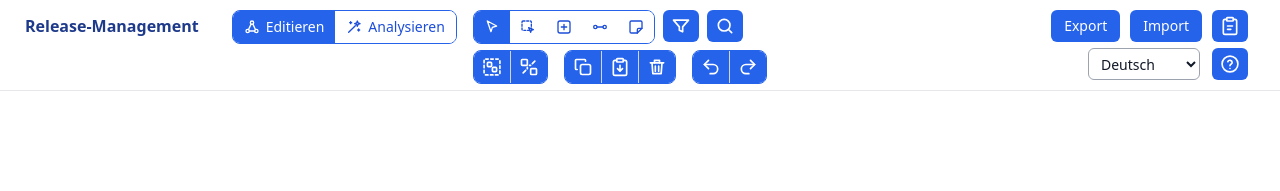
it: Toolbar › names the shortcuts of copy and paste
Hover over the button named "Kopieren": (583, 67) [565,51,601,83]
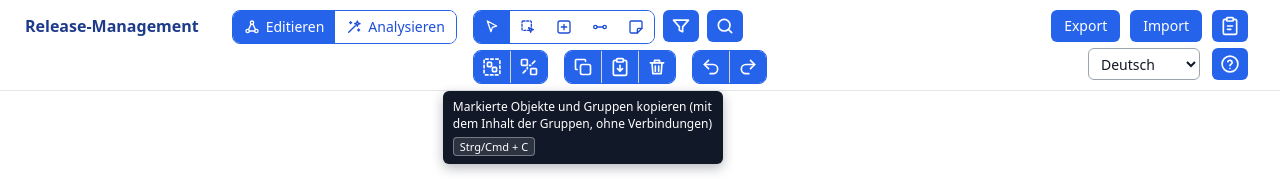
Expected: the tooltip shows "Strg/Cmd + C", [460,139,528,154]
